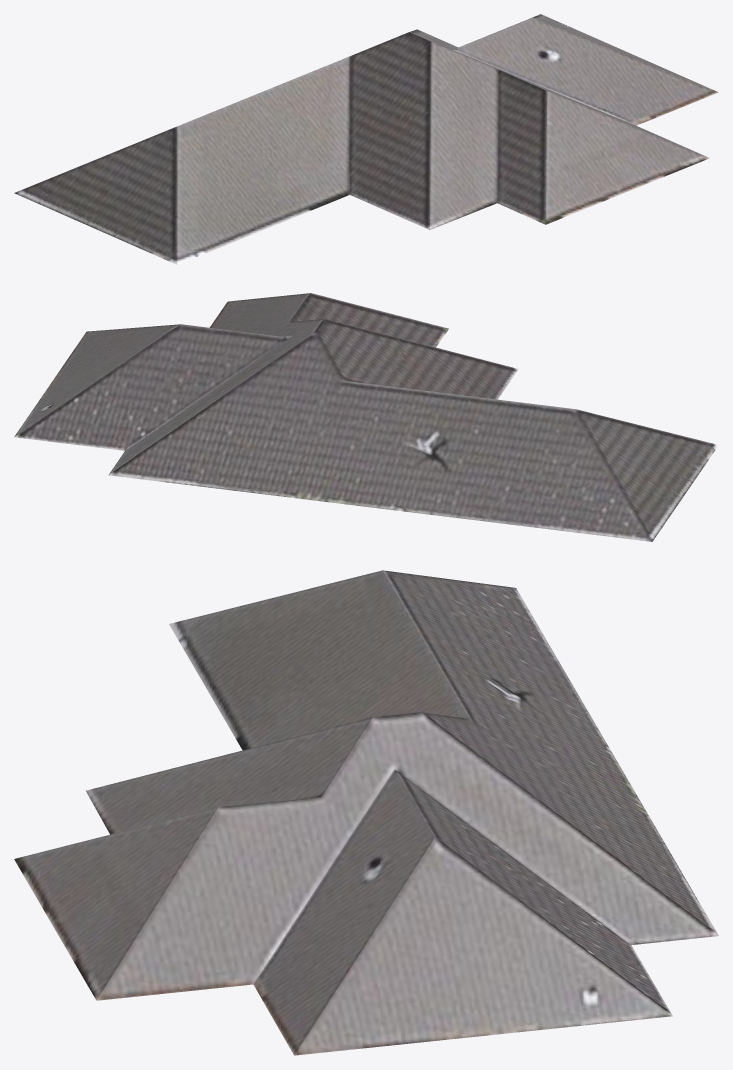
The model's file is BK39_500_015032_0026_roof.obj.
3 views of the same model, one above another, from view 1: azimuth 30°, elevation 25°; view 2: azimuth 150°, elevation 25°; view 3: azimuth 270°, elevation 25° (orthographic). The views are drawn at different scales.
Parts seen in each view (by area): view 1: BK39_500_015032_0026_roof; view 2: BK39_500_015032_0026_roof; view 3: BK39_500_015032_0026_roof.
Part boxes in pixels (x1,y1,x2,y2): BK39_500_015032_0026_roof: (14, 14, 718, 264); BK39_500_015032_0026_roof: (14, 293, 718, 541); BK39_500_015032_0026_roof: (14, 570, 718, 1055).
Bounding box in the file's own units: 485 × 70 × 309.
Materials: 1 (1 with a texture image).
